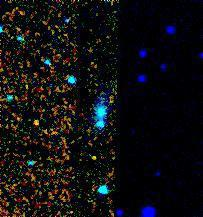star: (23, 106, 53, 136)
